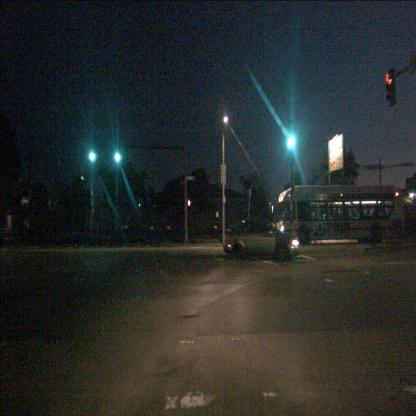vehicle-bus-rigid: (275, 184, 404, 244)
vehicle-car: (224, 216, 300, 262)
